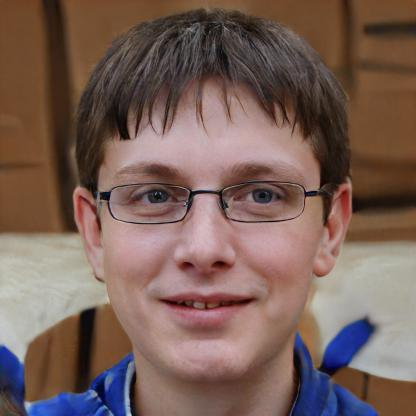glasses: (96, 178, 316, 226)
